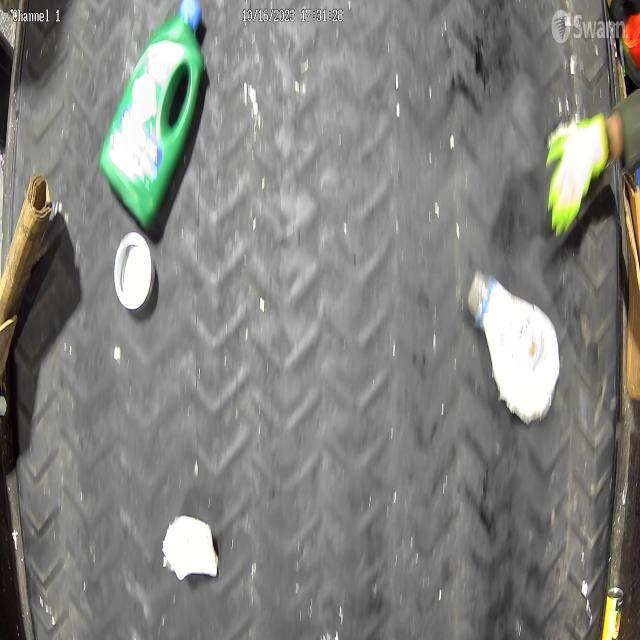can: (105, 226, 163, 318)
non_white_jug: (101, 0, 209, 240)
